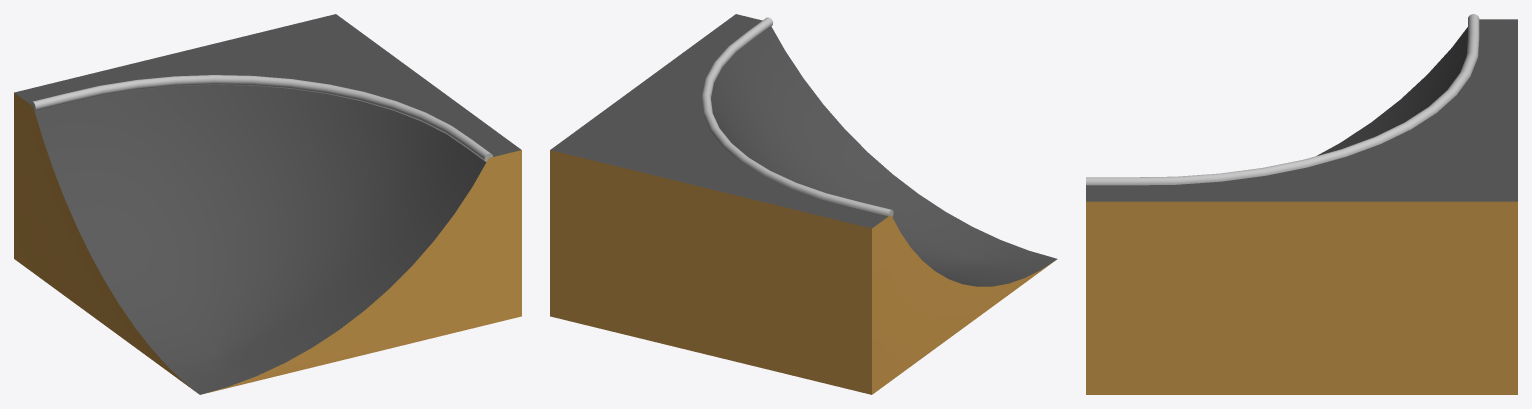
Rendered from Skate_Bowl_Corner_Rail_01.FBX.
The picture shows the model from 3 angles, left to right: view 1: azimuth 30°, elevation 25°; view 2: azimuth 150°, elevation 25°; view 3: azimuth 270°, elevation 25°; orthographic projection. The views are drawn at different scales.
Visible parts, largest first — view 1: Skate_Bowl_Corner_Rail_01; view 2: Skate_Bowl_Corner_Rail_01; view 3: Skate_Bowl_Corner_Rail_01.
Part boxes in pixels (x1,y1,x2,y2): Skate_Bowl_Corner_Rail_01: [14, 14, 521, 394]; Skate_Bowl_Corner_Rail_01: [550, 14, 1057, 394]; Skate_Bowl_Corner_Rail_01: [1086, 14, 1517, 394].
Size of the model in its own units: 3 by 1.52 by 3.
